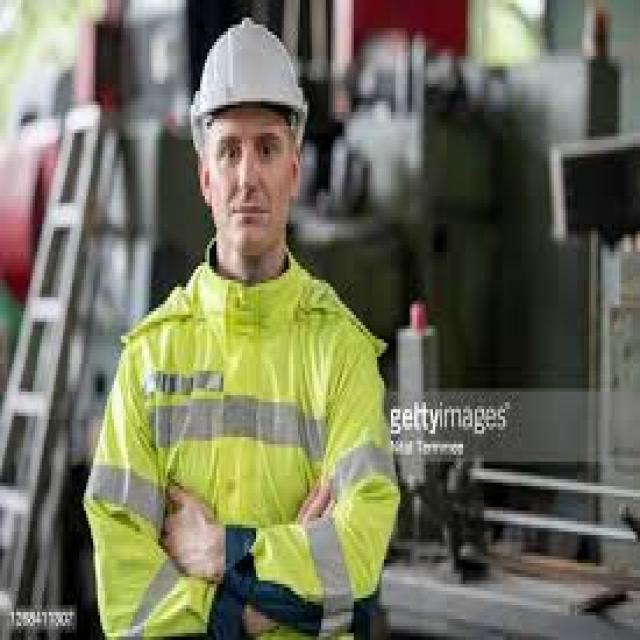Reflective-Jacket: (79, 266, 405, 626)
Safety-Helmet: (186, 18, 312, 136)
